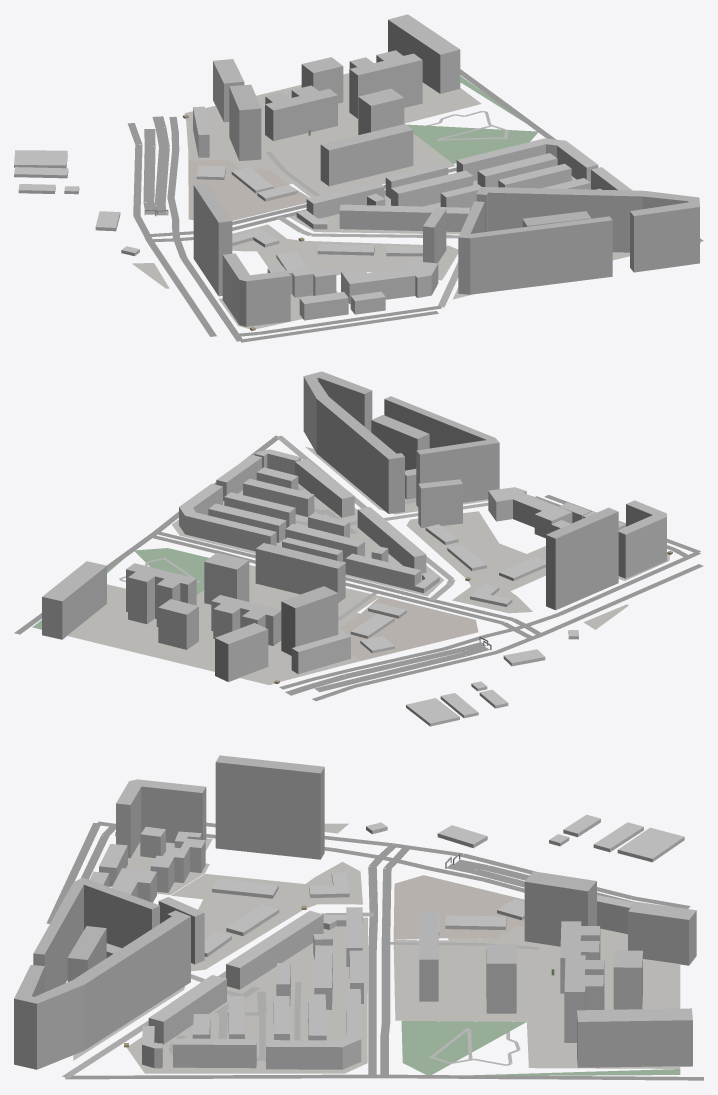
3 renders of one model, top to bottom at view 1: azimuth 30°, elevation 25°; view 2: azimuth 150°, elevation 25°; view 3: azimuth 270°, elevation 25°, orthographic. The views are drawn at different scales.
Bounding box in the file's own units: 520 × 79.89 × 568.
